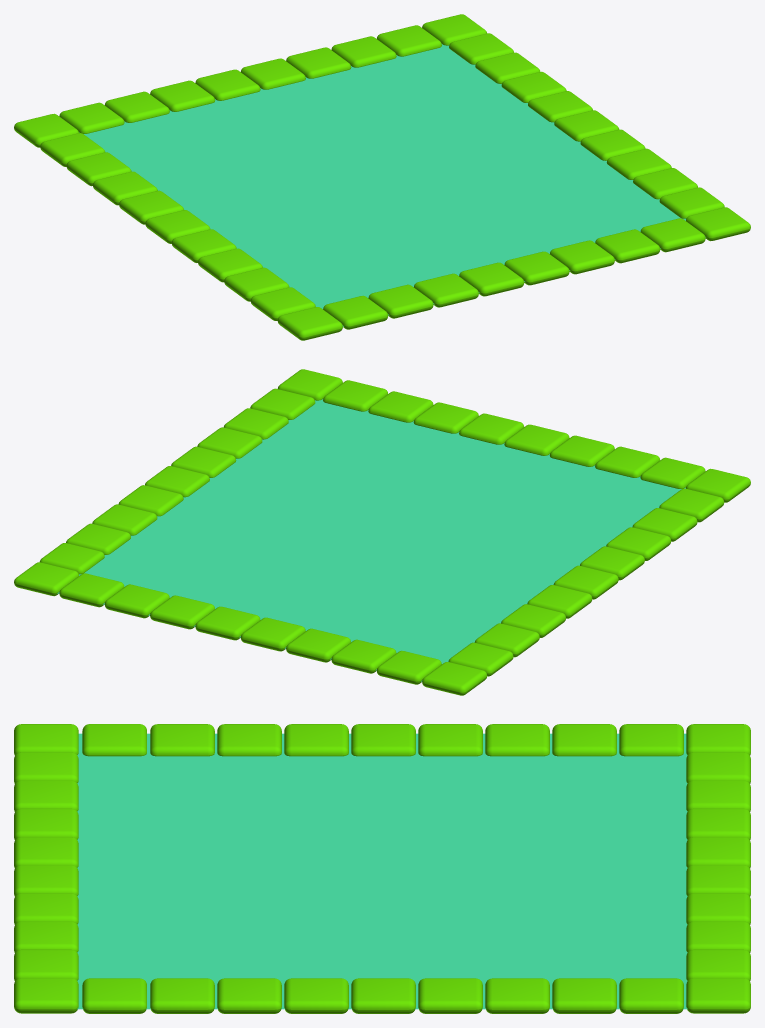
File: yalvarırımolsun....fbx
3 renders of one model, top to bottom at view 1: azimuth 30°, elevation 25°; view 2: azimuth 150°, elevation 25°; view 3: azimuth 270°, elevation 25°, orthographic. The views are drawn at different scales.
Parts seen in each view (by area): view 1: 0, 10, 2, 3, 5, 7, 6, 4, 8, 9, 1, 26 (+27 smaller); view 2: 0, 20, 25, 27, 23, 28, 21, 22, 24, 26, 29, 4 (+27 smaller); view 3: 0, 30, 31, 32, 38, 1, 29, 33, 34, 35, 36, 37 (+27 smaller).
Part boxes in pixels (x1,y1,x2,y2): 0: (79, 44, 705, 326); 10: (277, 307, 342, 340); 2: (640, 218, 705, 252); 3: (595, 229, 660, 263); 5: (504, 251, 569, 285); 7: (414, 273, 478, 307); 6: (459, 262, 524, 296); 4: (550, 240, 614, 274); 8: (368, 284, 433, 318); 9: (323, 295, 388, 329); 1: (686, 207, 750, 241); 26: (286, 47, 351, 78); 0: (57, 399, 685, 681); 20: (422, 662, 487, 695); 25: (195, 606, 260, 640); 27: (104, 584, 169, 618); 23: (286, 628, 350, 662); 28: (59, 573, 124, 607); 21: (376, 650, 441, 684); 22: (331, 639, 396, 673); 24: (240, 617, 305, 651); 26: (150, 595, 214, 629); 29: (14, 562, 78, 596); 4: (413, 402, 478, 433); 0: (77, 733, 687, 1009); 30: (619, 978, 683, 1013); 31: (552, 978, 616, 1013); 32: (485, 978, 549, 1013); 38: (82, 978, 146, 1013); 1: (14, 978, 78, 1013); 29: (686, 978, 750, 1013); 33: (418, 978, 482, 1013); 34: (351, 978, 415, 1013); 35: (284, 978, 348, 1013); 36: (217, 978, 281, 1013); 37: (150, 978, 214, 1013).
Size of the model in its own units: 1501 by 32.07 by 1660.
